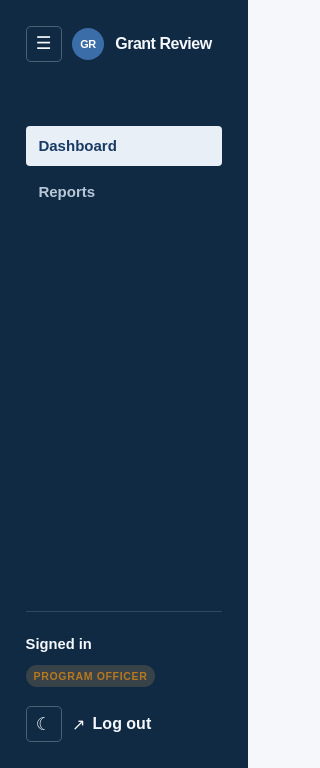
Test: AppShell navigation › persists collapsed navigation while retaining accessible route labels
The image size is (320, 768).
Expected: the link "Dashboard" is shown, [26,126,222,166]
Click the button named "Collapse navigation" at [44, 44], box [26,26,62,62]
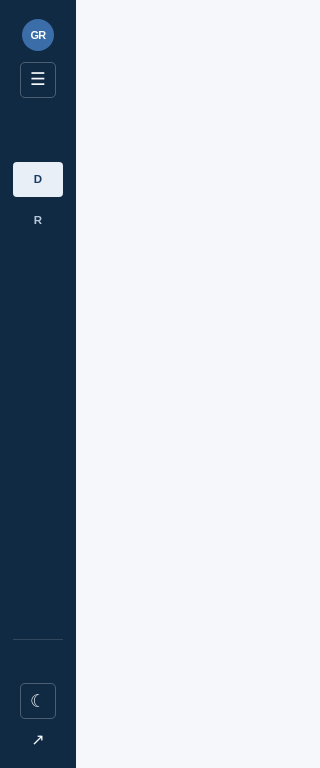
Expected: the link named "Dashboard" is shown, [13,162,63,197]
Expected: the button named "Expand navigation" is shown, [20,62,56,98]
